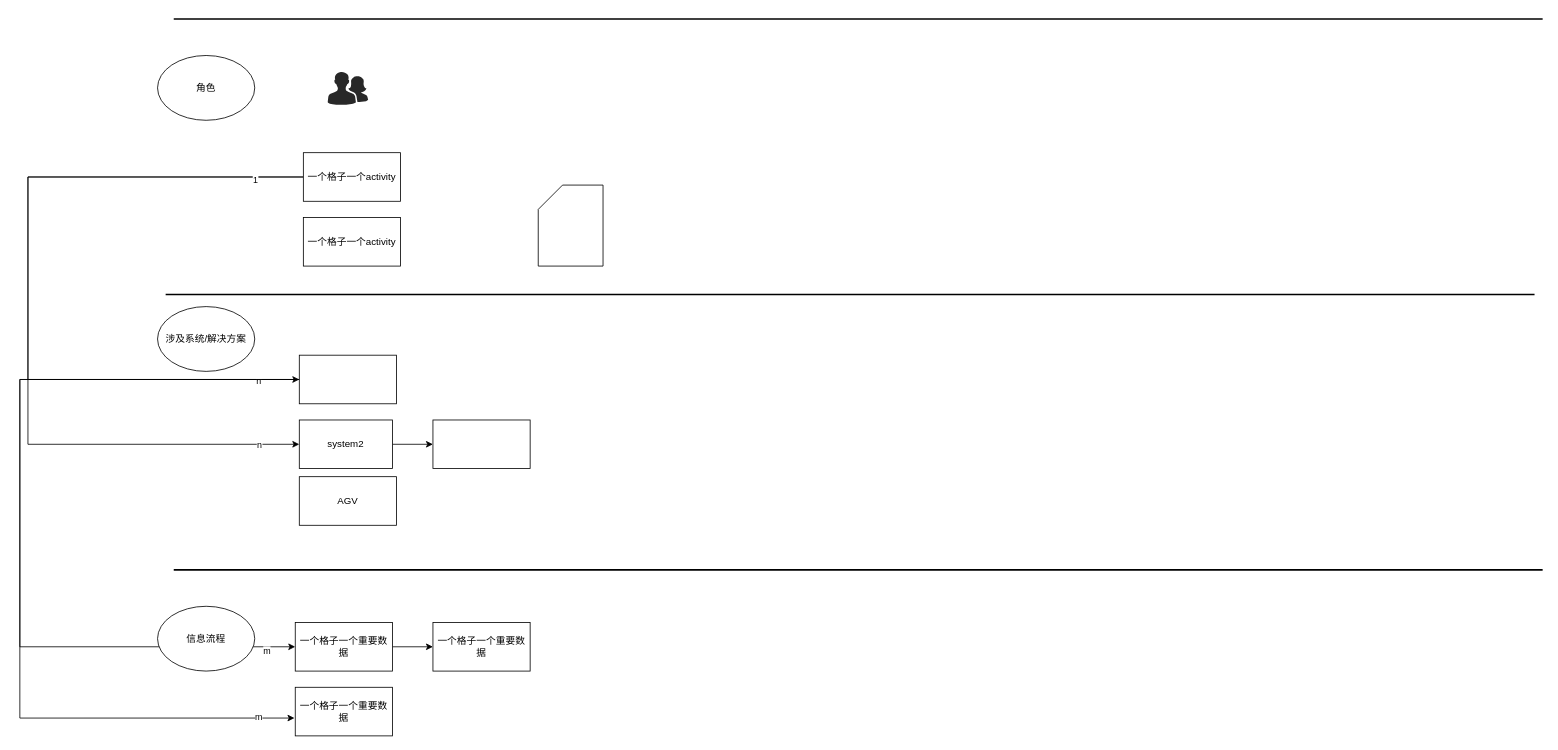
Image size: 1558x750. Some labels were removed from this diagram. The shapes that lost their labels are listed below. From the top down, each one's box as (x1, y1, x2, y2) in pixels, then its label:
(327, 71, 368, 104): line leader
(537, 184, 603, 266): 并行的画在同一列，穿行的分前后一个接一个，就像Excel
(298, 354, 396, 404): system1
(432, 419, 530, 469): system3
